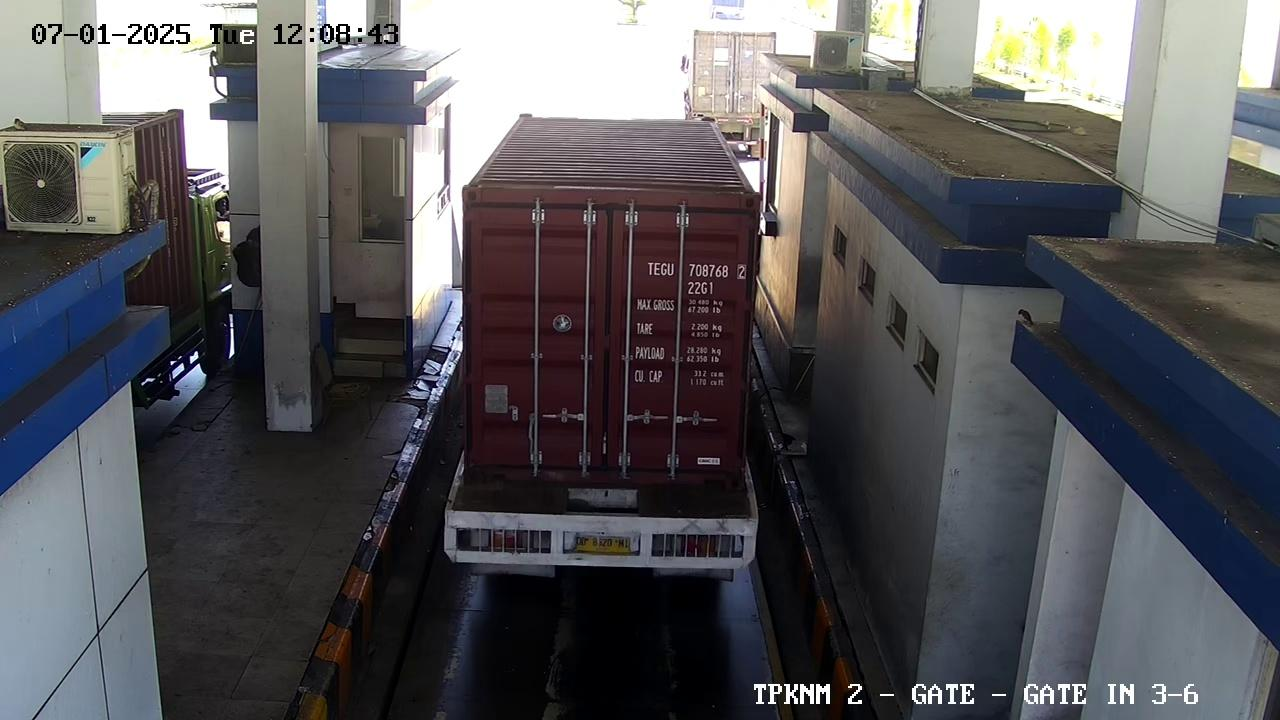Container_ID: (633, 252, 752, 281)
plate_number: (565, 553, 636, 589)
